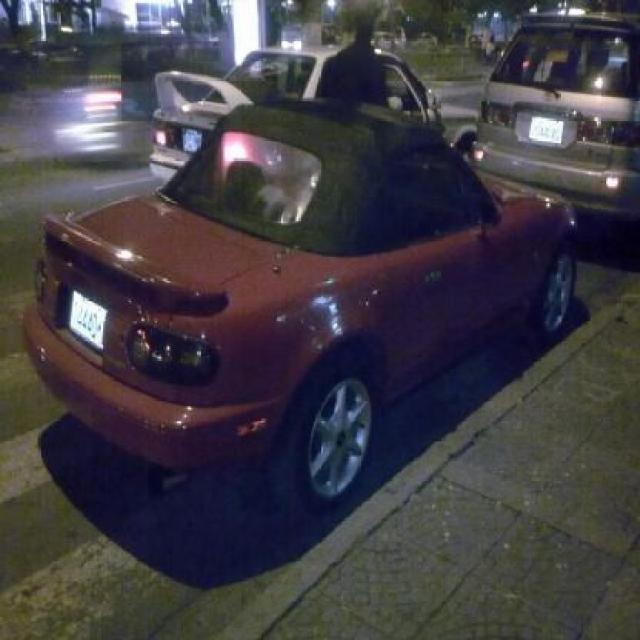License-Plates: (69, 288, 108, 349)
